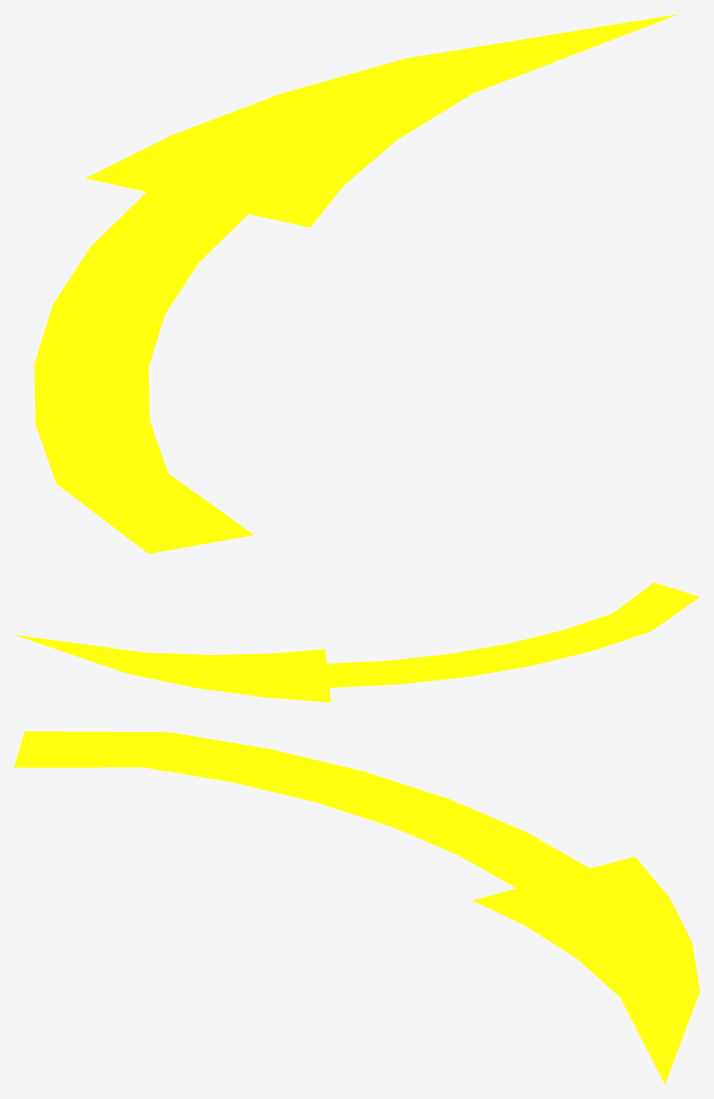
The model's file is Arrow_right_X.glb.
3 renders of one model, top to bottom at view 1: azimuth 30°, elevation 25°; view 2: azimuth 150°, elevation 25°; view 3: azimuth 270°, elevation 25°, orthographic. The views are drawn at different scales.
Parts seen in each view (by area): view 1: 平面.025; view 2: 平面.025; view 3: 平面.025.
Part boxes in pixels (left/top/right/bottom): 平面.025: left=34, top=14, right=678, bottom=553; 平面.025: left=15, top=582, right=699, bottom=702; 平面.025: left=14, top=731, right=699, bottom=1083.
Size of the model in its own units: 4.73 by 0 by 3.88.
Materials: 1 (1 with a texture image).
